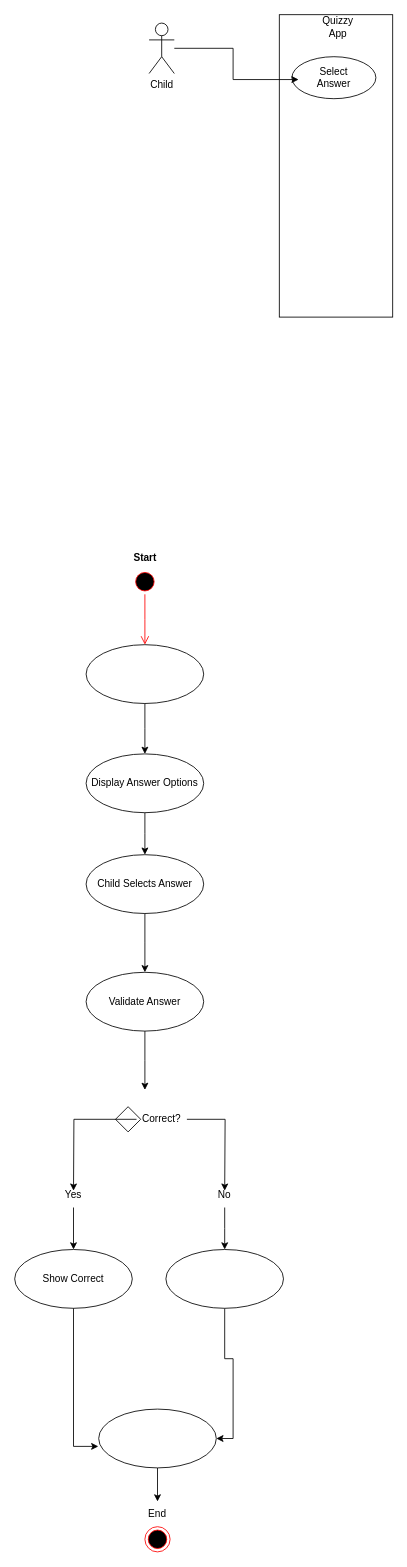
Image size: 407x1567. Some labels were removed from this diagram. The centre of each missing label's shape, as x and y in pixels:
Display Quiz Question: (144,674)
Load Next Question: (157,1438)
Show Incorrect: (224,1278)
